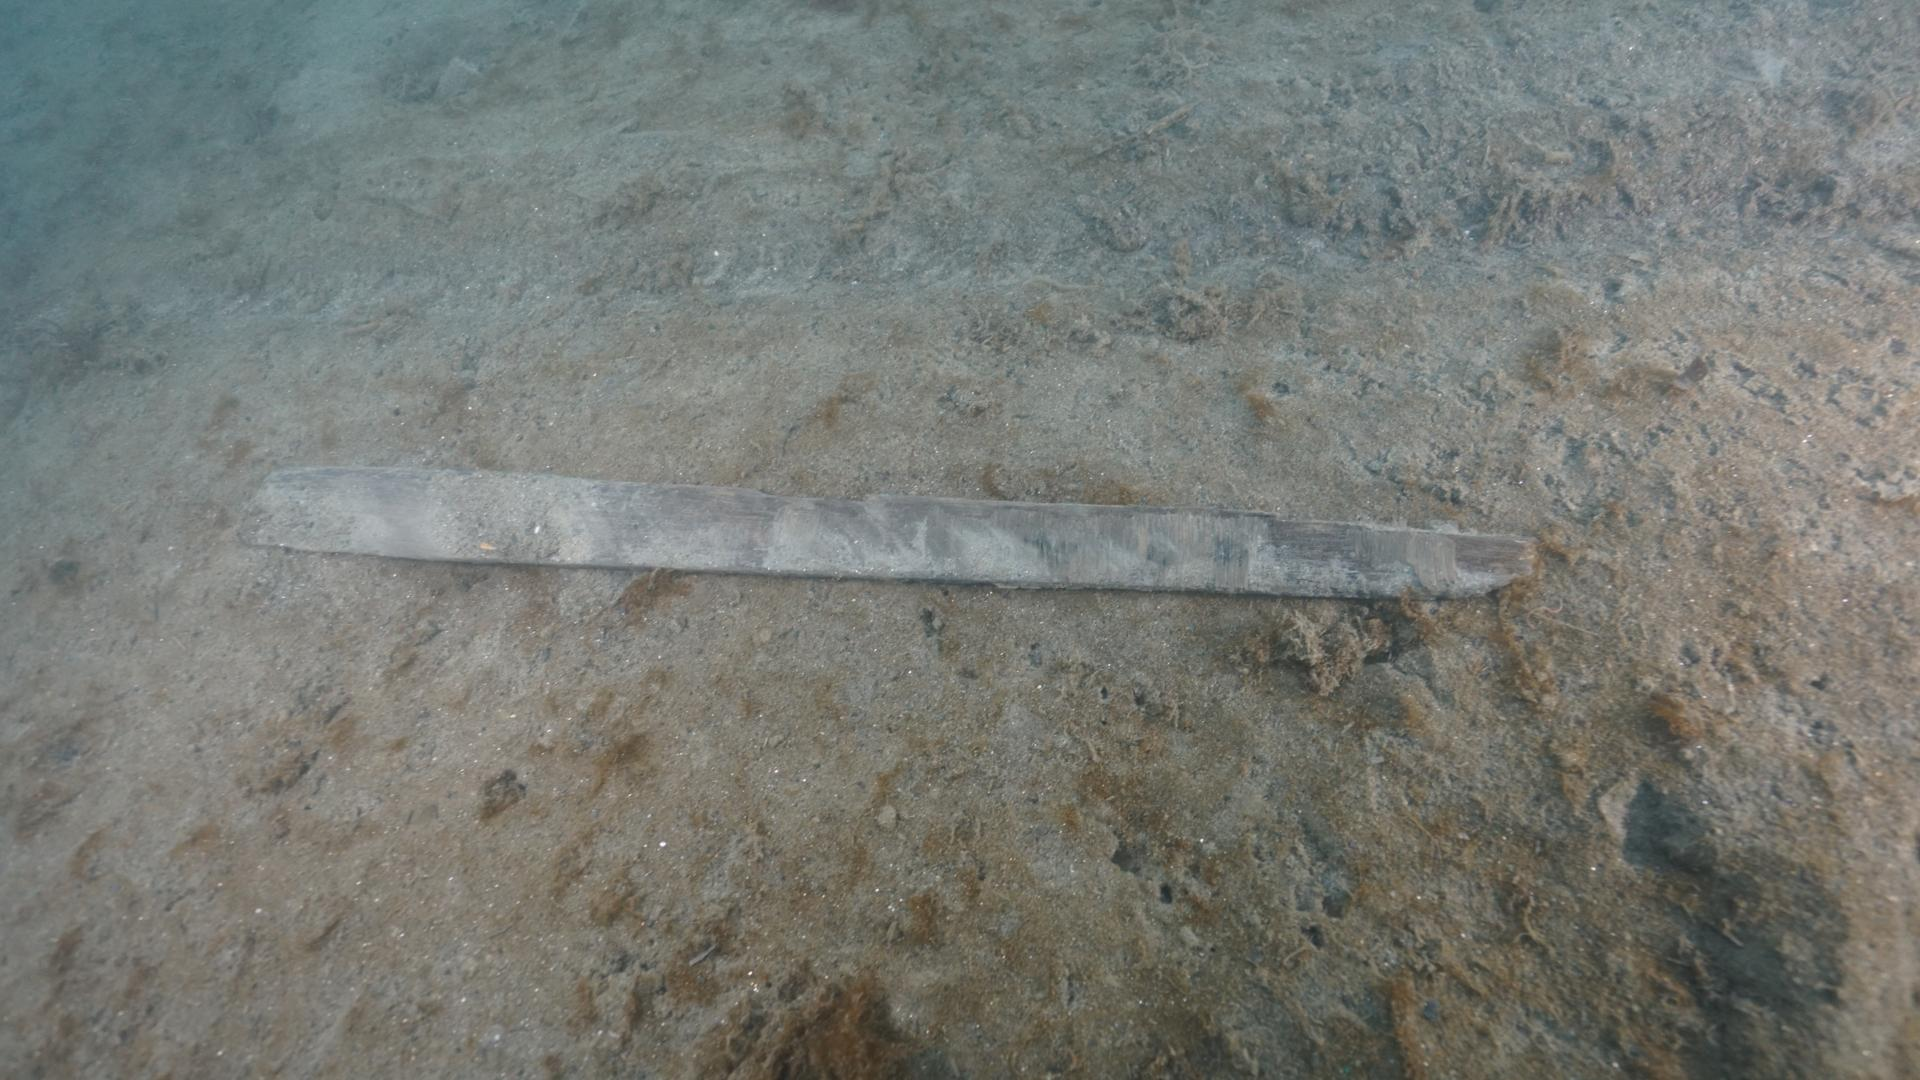wood: (248, 462, 1536, 597)
